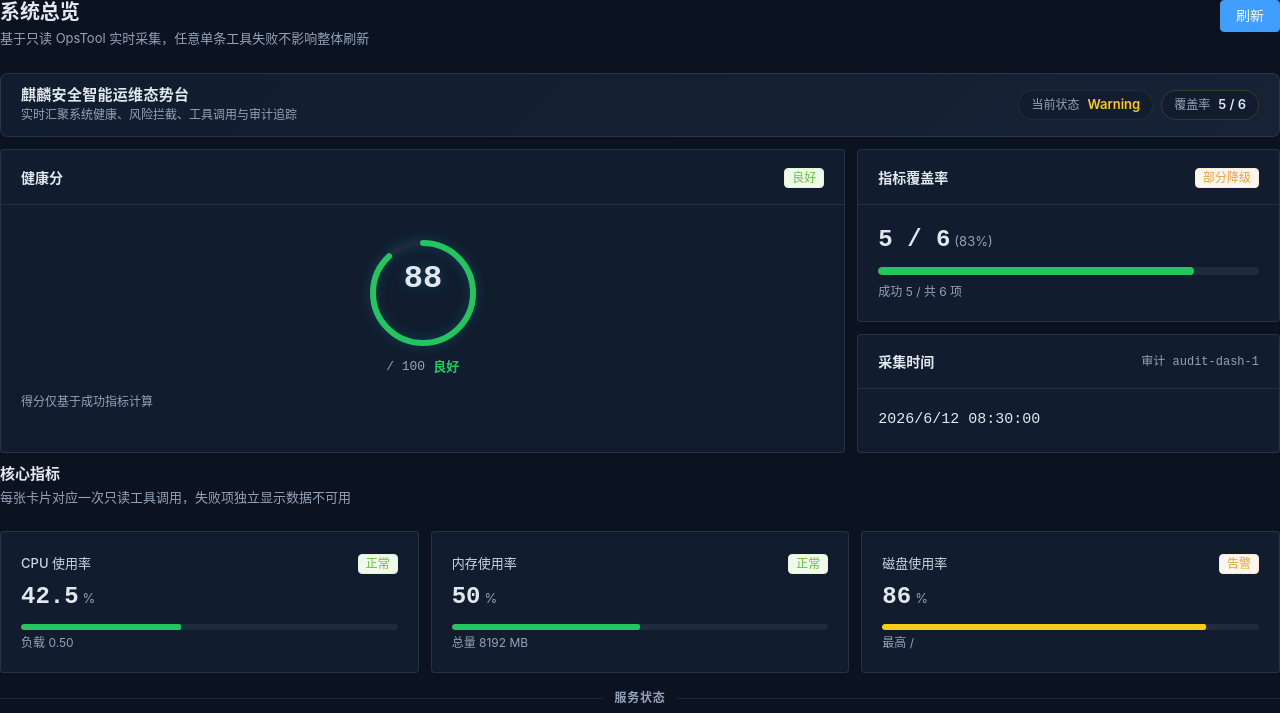
it: Dashboard — manual refresh and stale data › keeps the previous snapshot and shows a stale banner when a refresh fails
Click the button with test id "dashboard-refresh-button".
click(1250, 16)  # box [1220,0,1279,32]
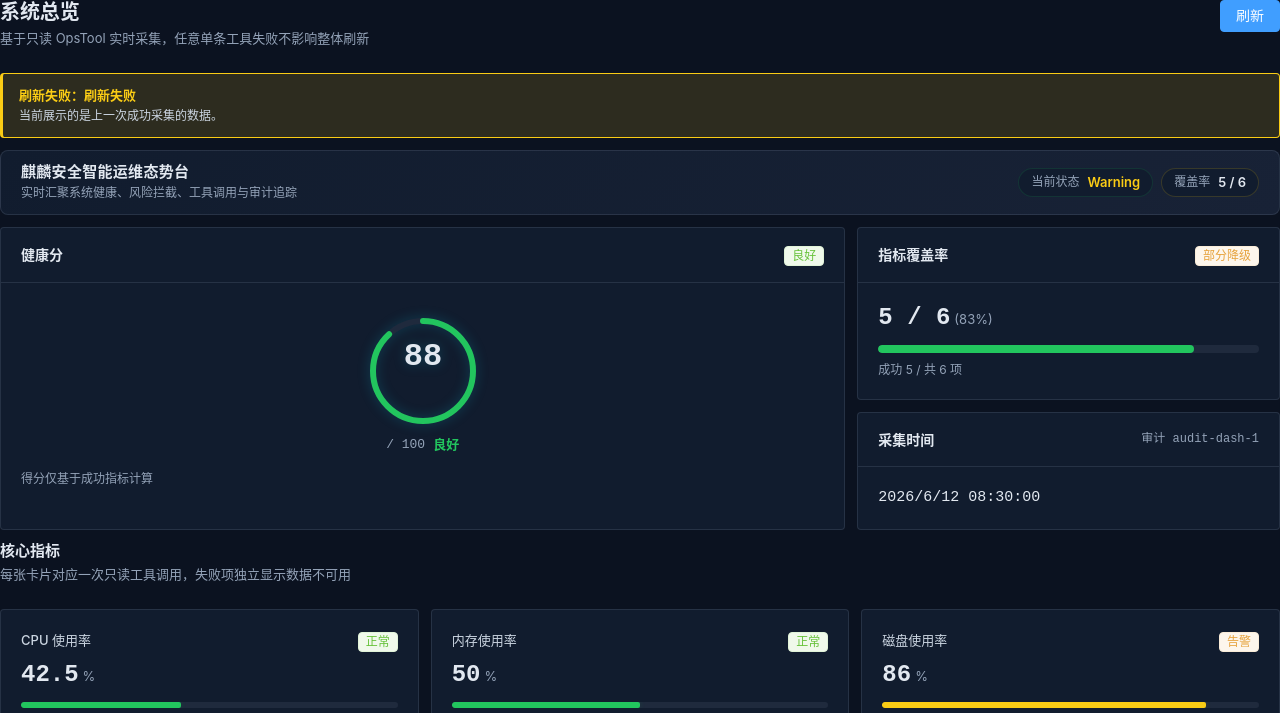
Check: the text "audit-dash-1" is shown, box [1141,432,1259,446]
Check: the element with test id "dashboard-stale-banner" is shown, box [0,72,1279,138]
Check: the element with test id "dashboard-stale-banner" shows "刷新失败", box [19,86,136,102]
